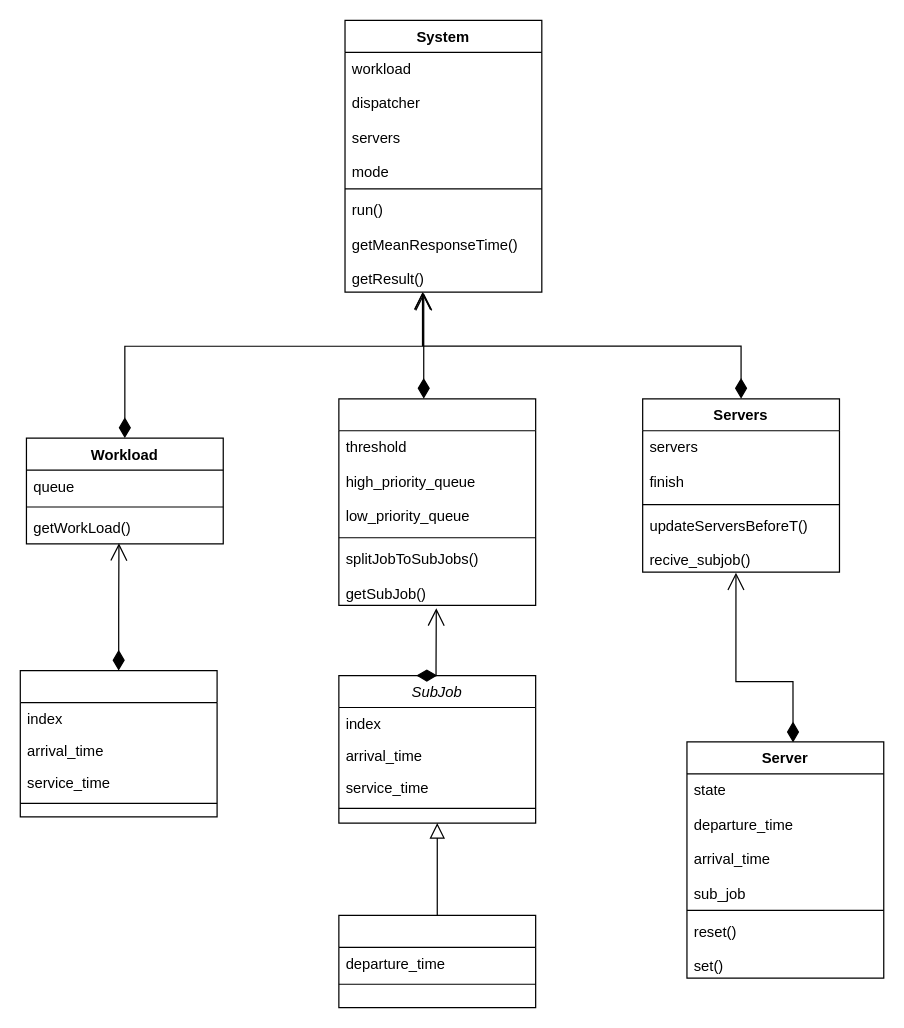
The diagram is 904 pixels wide and 1028 high, and some of its shapes have lost their labels. Here are the shapes that lost their labels. From the top down, the box of each, then its label:
(338, 398, 536, 605): Dispatcher
(19, 669, 217, 817): Job
(338, 914, 536, 1008): FinishedSubJob
